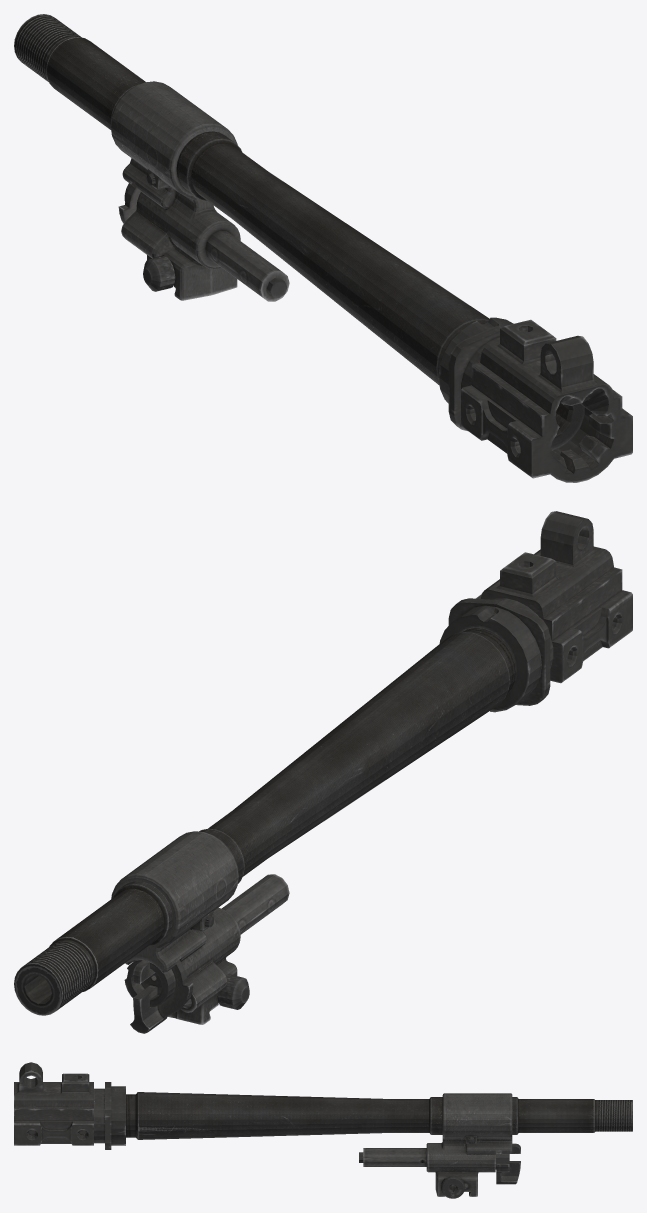
3 views of the same model, one above another, from view 1: azimuth 30°, elevation 25°; view 2: azimuth 150°, elevation 25°; view 3: azimuth 270°, elevation 25° (orthographic). The views are drawn at different scales.
Parts seen in each view (by area): view 1: TW_618168b350224f204c1da4d8_PZ_Import; view 2: TW_618168b350224f204c1da4d8_PZ_Import; view 3: TW_618168b350224f204c1da4d8_PZ_Import.
Boxes of the visible parts, x1=… form: TW_618168b350224f204c1da4d8_PZ_Import: x1=14, y1=14, x2=632, y2=482; TW_618168b350224f204c1da4d8_PZ_Import: x1=14, y1=511, x2=632, y2=1033; TW_618168b350224f204c1da4d8_PZ_Import: x1=14, y1=1062, x2=632, y2=1198.
Size of the model in its own units: 0.0187 by 0.1734 by 0.0378.
Materials: 1 (1 with a texture image).
